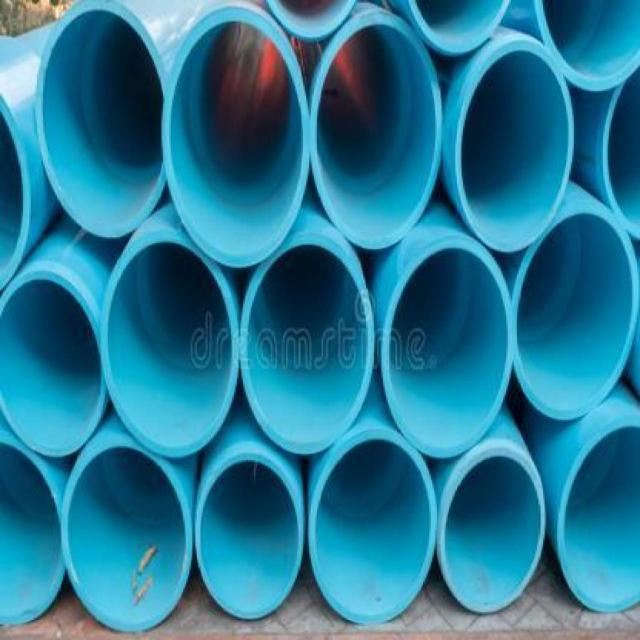pipe: (162, 5, 310, 268), (33, 0, 170, 240), (99, 229, 238, 456), (313, 10, 442, 249), (240, 235, 376, 455), (381, 237, 515, 458), (512, 200, 640, 422), (309, 428, 438, 624), (62, 439, 193, 632), (456, 39, 574, 252), (0, 269, 106, 455), (438, 444, 546, 614), (196, 452, 303, 620), (557, 420, 639, 617), (0, 430, 68, 626), (530, 0, 640, 94), (405, 0, 511, 58)
